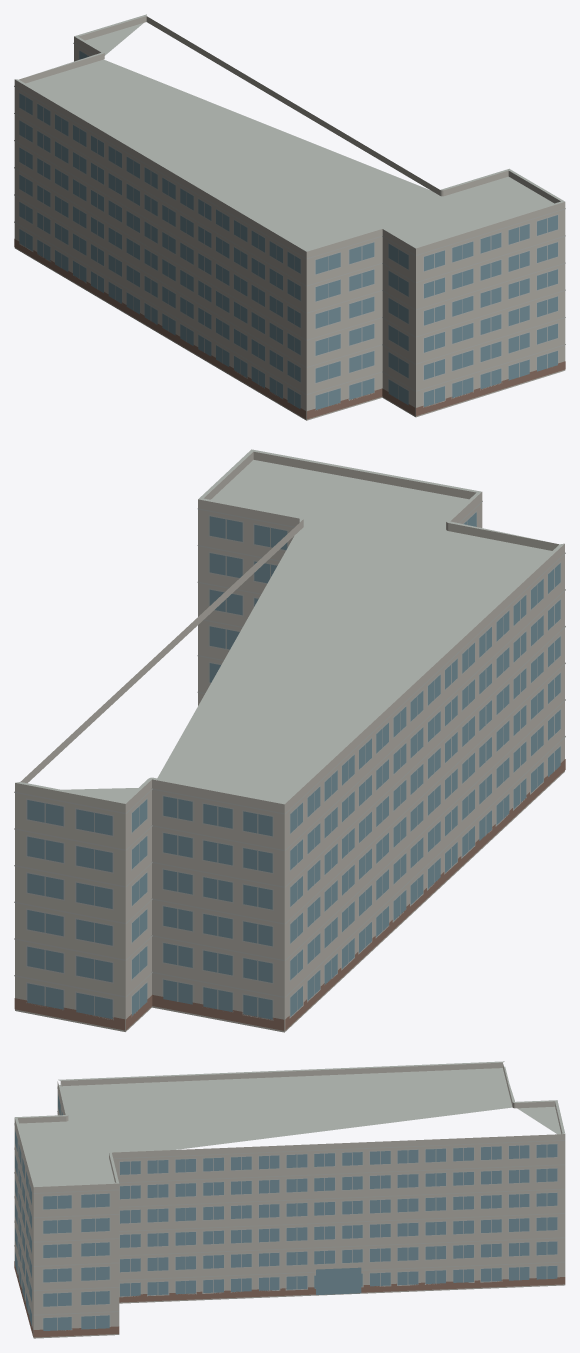
File: public-18da286a-35dc-4df7-9526-0165ed3b1ce2.glb
3 renders of one model, top to bottom at view 1: azimuth 30°, elevation 25°; view 2: azimuth 150°, elevation 25°; view 3: azimuth 270°, elevation 25°, orthographic. The views are drawn at different scales.
Visible parts, largest first — view 1: public-18da286a-35dc-4df7-9526-0165ed3b1ce2; view 2: public-18da286a-35dc-4df7-9526-0165ed3b1ce2; view 3: public-18da286a-35dc-4df7-9526-0165ed3b1ce2.
Boxes of the visible parts, x1,y1,x2,y2 form: public-18da286a-35dc-4df7-9526-0165ed3b1ce2: (14, 14, 565, 420); public-18da286a-35dc-4df7-9526-0165ed3b1ce2: (14, 449, 565, 1032); public-18da286a-35dc-4df7-9526-0165ed3b1ce2: (14, 1061, 565, 1338).
Bounding box in the file's own units: 32.75 × 18.3 × 60.47.
